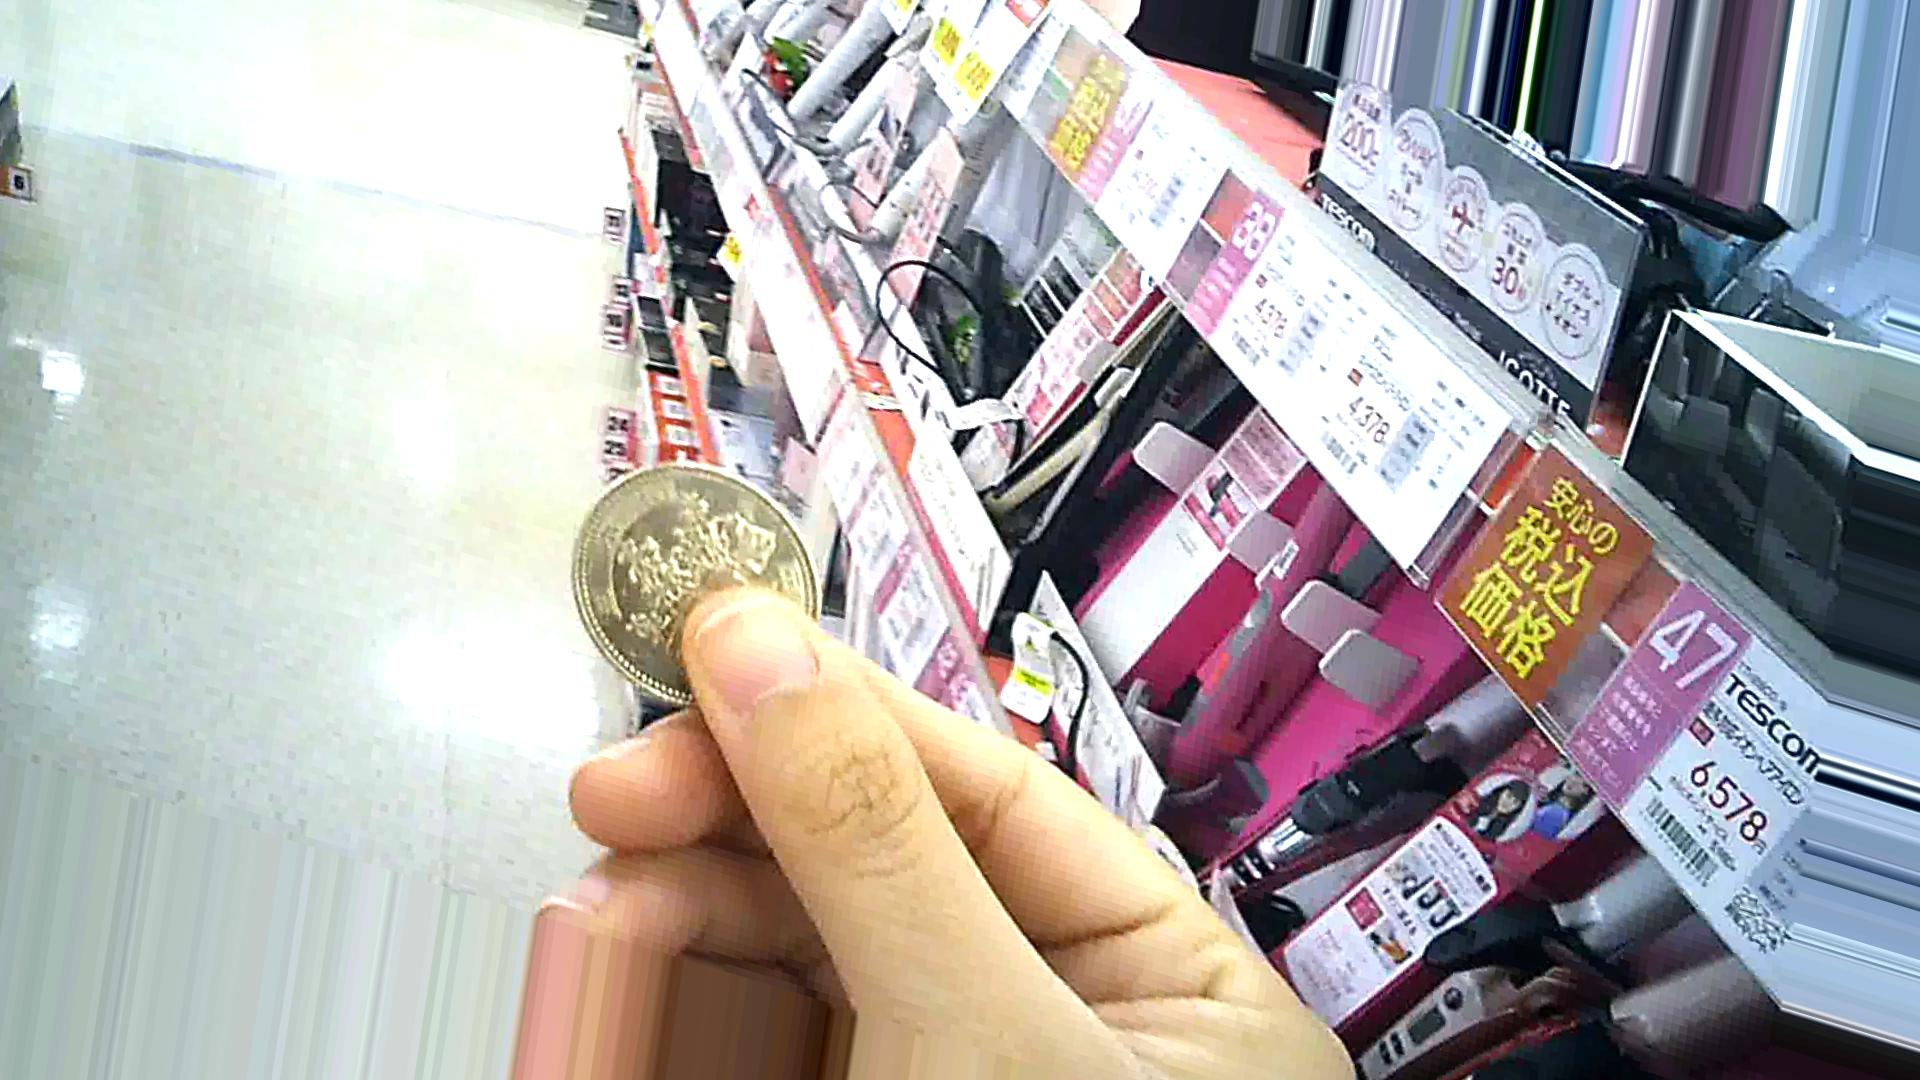500 Yen: (562, 458, 851, 703)
